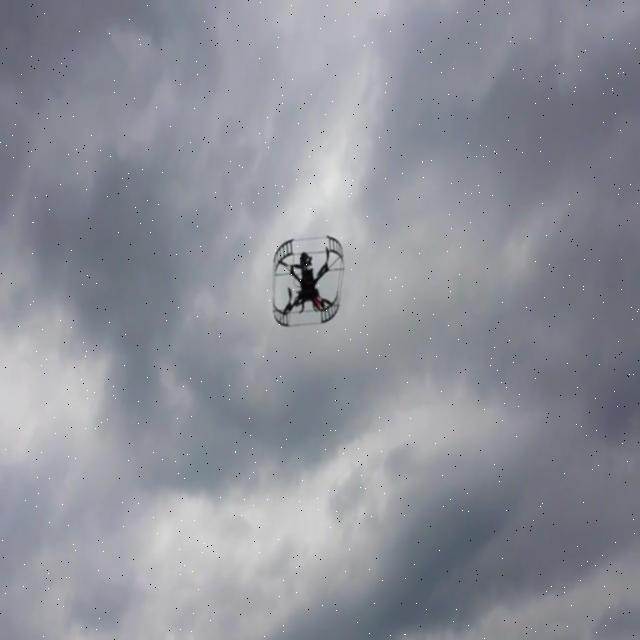UAV: (272, 236, 344, 327)
